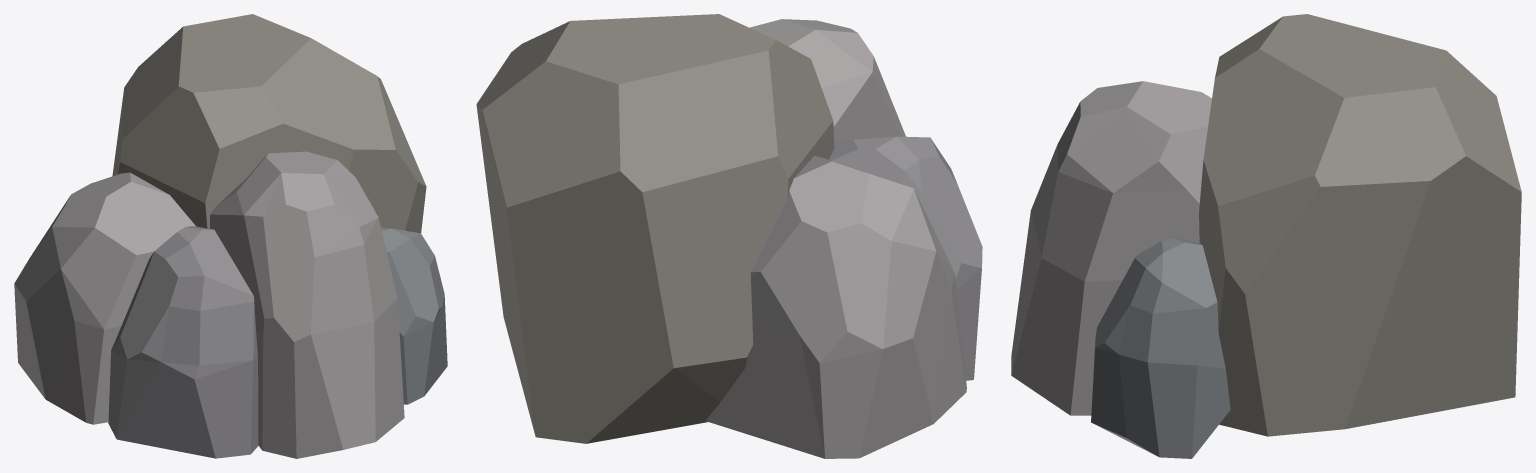
The model's file is Rocks_Round_l_02.fbx.
3 views of the same model, side by side, from view 1: azimuth 30°, elevation 25°; view 2: azimuth 150°, elevation 25°; view 3: azimuth 270°, elevation 25° (orthographic). The views are drawn at different scales.
Visible parts, largest first — view 1: Rocks_Round_l_02; view 2: Rocks_Round_l_02; view 3: Rocks_Round_l_02.
Part boxes in pixels (x1,y1,x2,y2): Rocks_Round_l_02: (14, 14, 447, 458); Rocks_Round_l_02: (476, 14, 982, 458); Rocks_Round_l_02: (1011, 14, 1521, 458).
Bounding box in the file's own units: 3.06 × 2.35 × 3.27.
